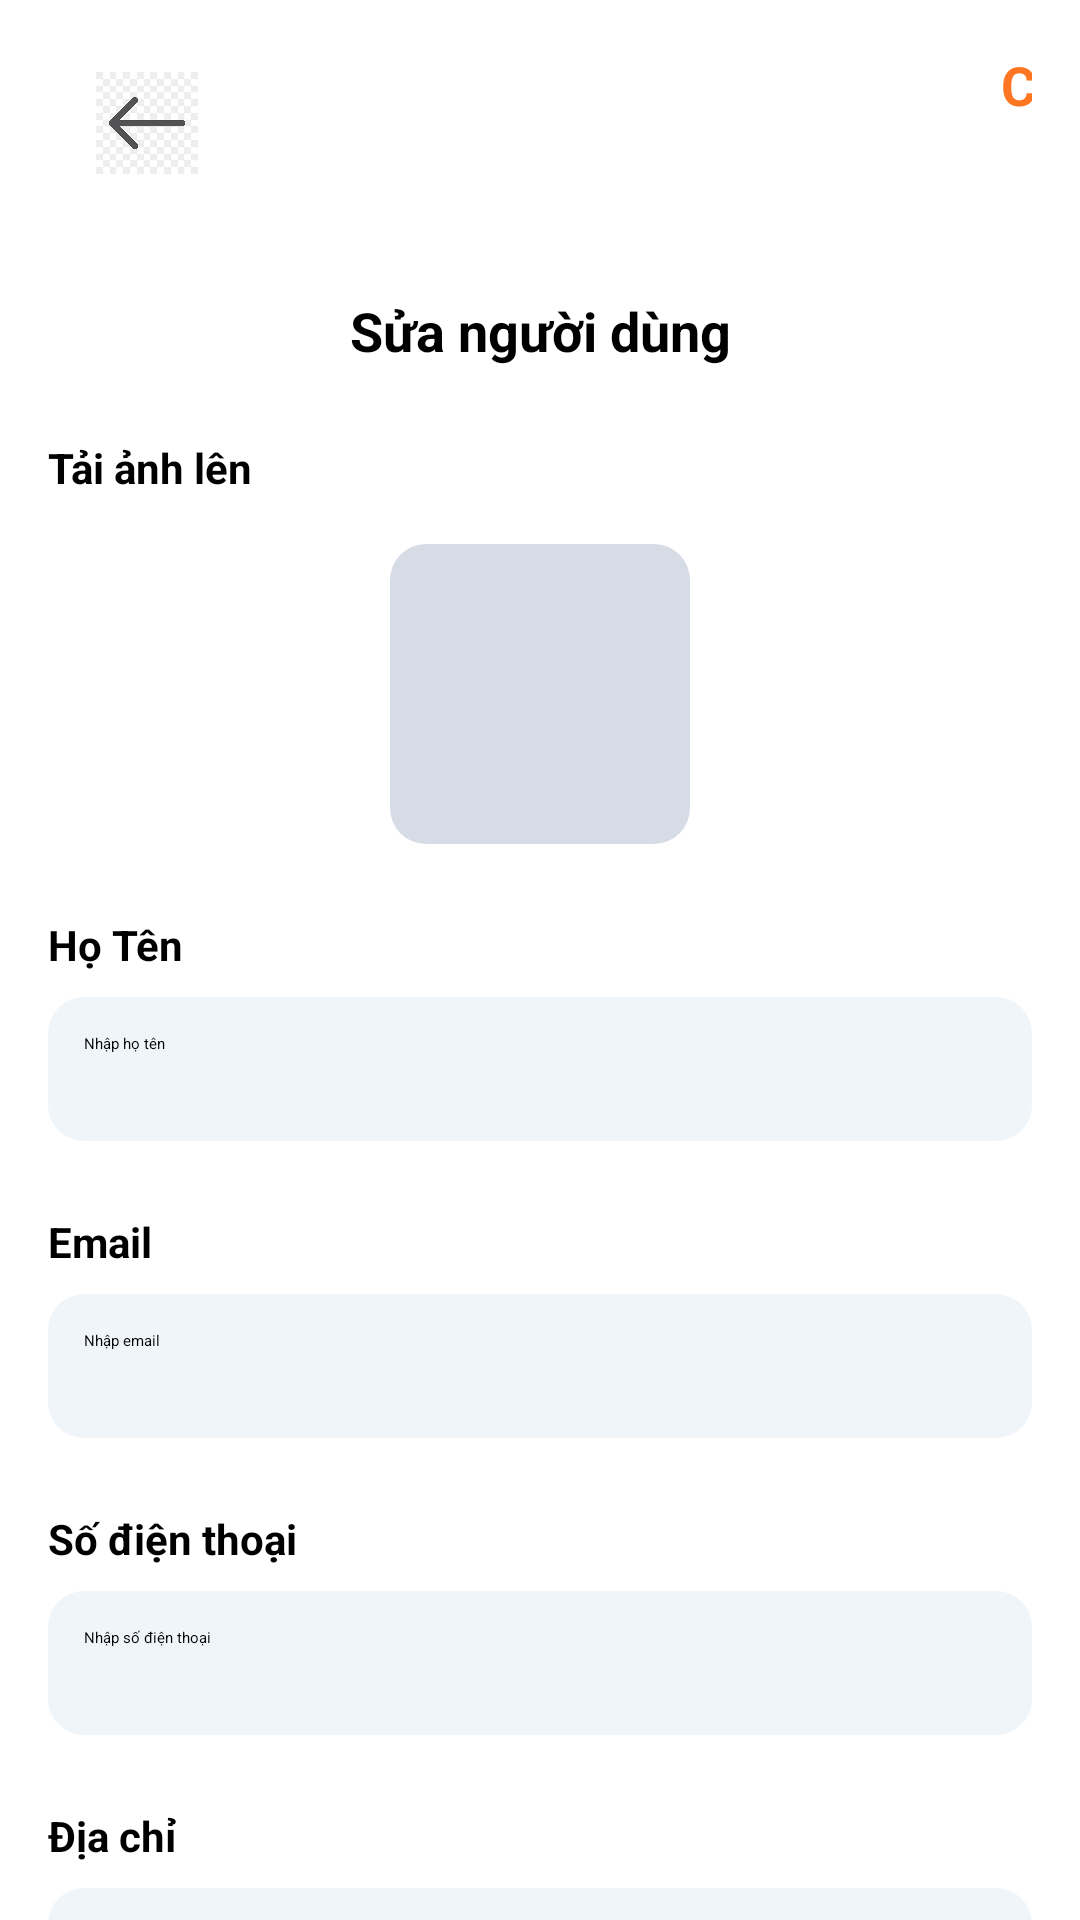

Icons on this 1080px x 1920px Android screen, each with the point to tap as point (x, y):
Back: point (147, 123)
